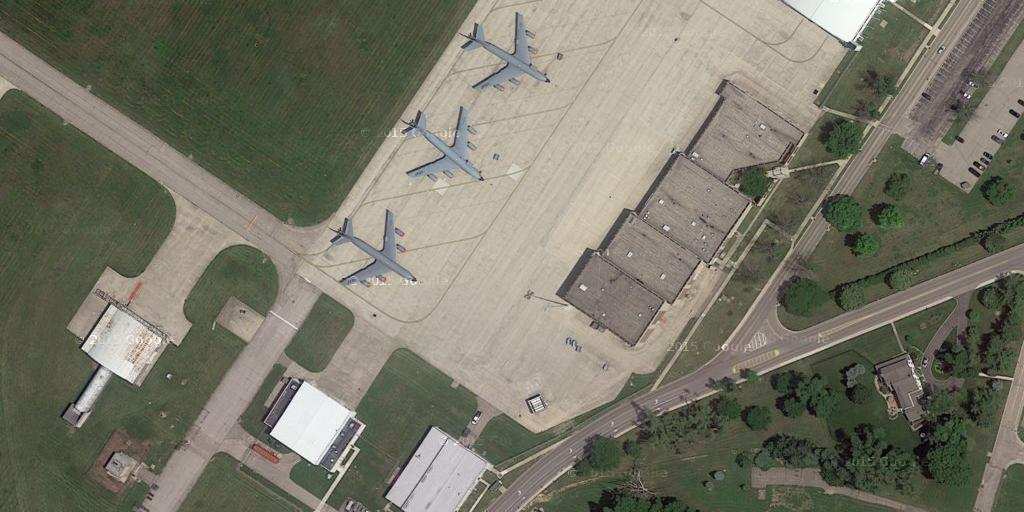KC-135: (457, 10, 553, 96), (327, 211, 419, 292), (400, 104, 487, 187)
